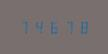eight: (74, 20, 87, 34)
four: (32, 20, 45, 34)
seven: (18, 20, 31, 34), (60, 20, 73, 34)
six: (46, 20, 59, 34)
